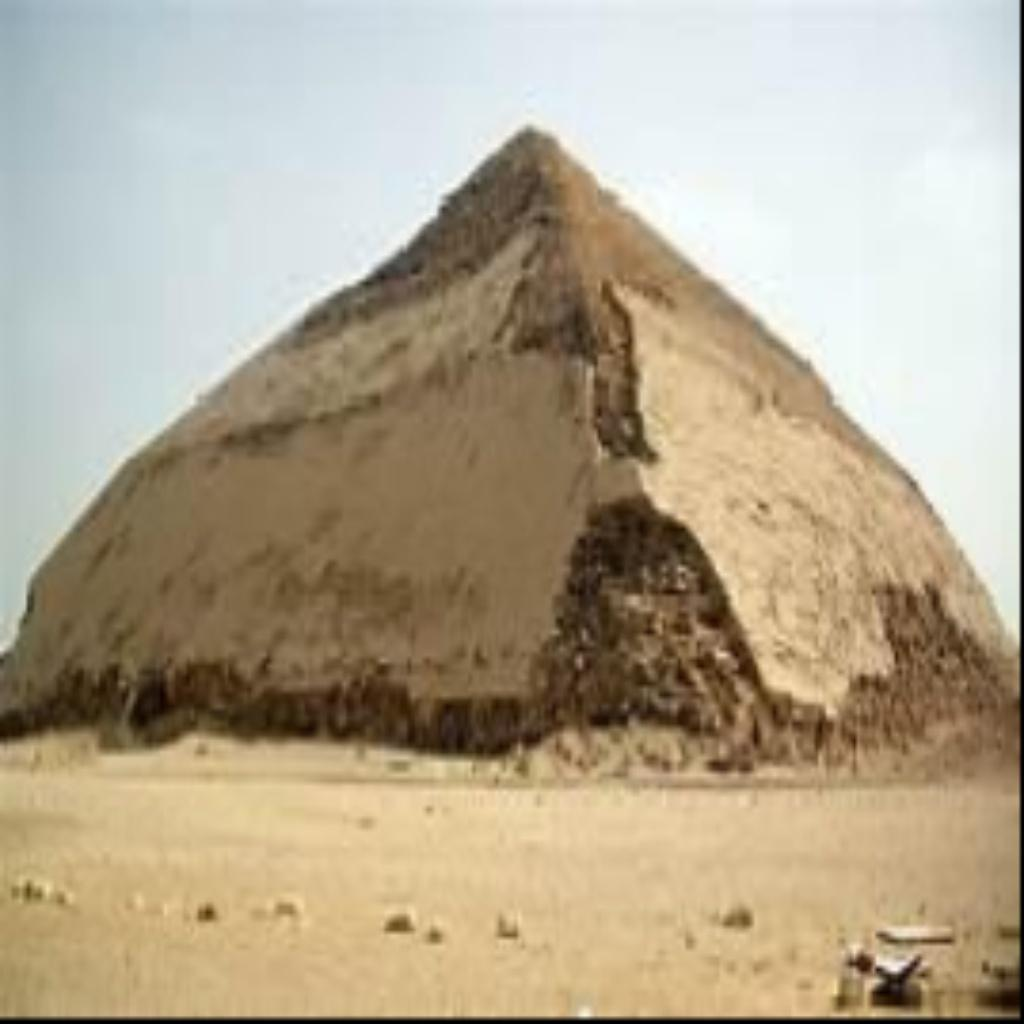Bent Pyramid of King Sneferu: (4, 114, 1012, 766)
